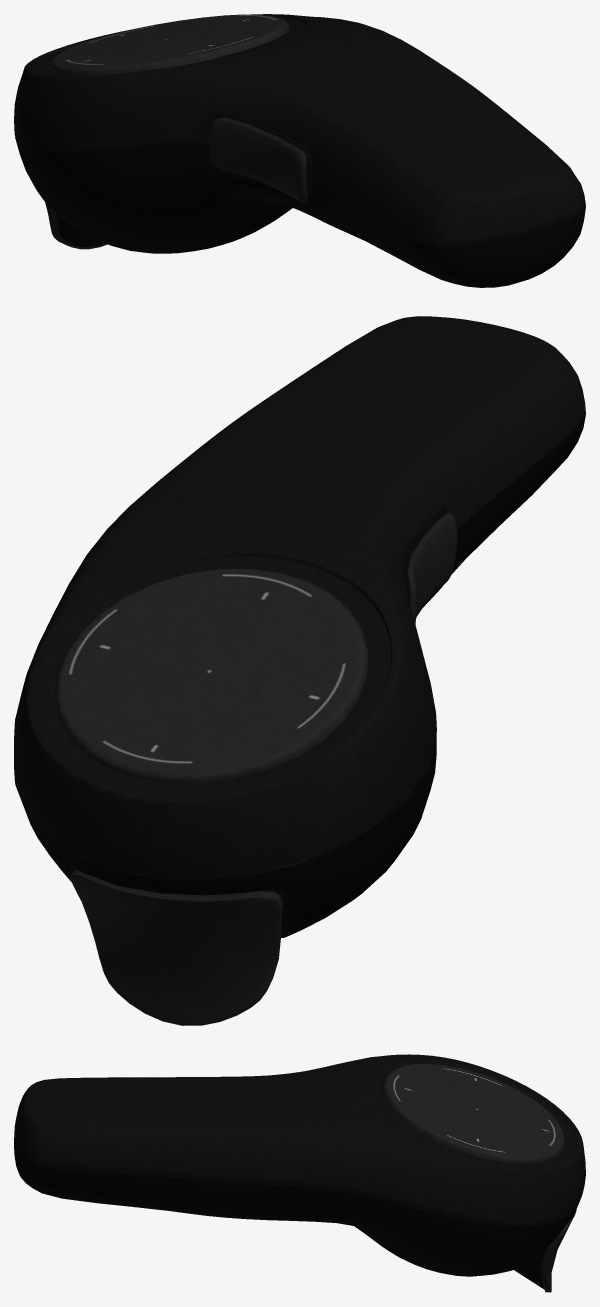
File: right.glb
3 renders of one model, top to bottom at view 1: azimuth 30°, elevation 25°; view 2: azimuth 150°, elevation 25°; view 3: azimuth 270°, elevation 25°, orthographic. The views are drawn at different scales.
Parts seen in each view (by area): view 1: Body, TouchPad, Grab_Button, trigger, Plate; view 2: Body, TouchPad, trigger, Plate, Grab_Button; view 3: Body, TouchPad, Plate, trigger.
Part boxes in pixels (left/top/right/bottom): Body: left=14, top=14, right=585, bottom=287; TouchPad: left=49, top=14, right=289, bottom=75; Grab_Button: left=209, top=115, right=312, bottom=202; trigger: left=45, top=203, right=107, bottom=249; Plate: left=33, top=17, right=304, bottom=76; Body: left=14, top=316, right=585, bottom=937; TouchPad: left=54, top=568, right=368, bottom=782; trigger: left=70, top=870, right=282, bottom=1025; Plate: left=36, top=556, right=391, bottom=794; Grab_Button: left=403, top=510, right=457, bottom=624; Body: left=14, top=1054, right=585, bottom=1276; TouchPad: left=382, top=1063, right=565, bottom=1163; Plate: left=369, top=1058, right=576, bottom=1168; trigger: left=514, top=1209, right=576, bottom=1292.
Size of the model in its own units: 0.065 by 0.056 by 0.1319.
1 material, 1 textured.
